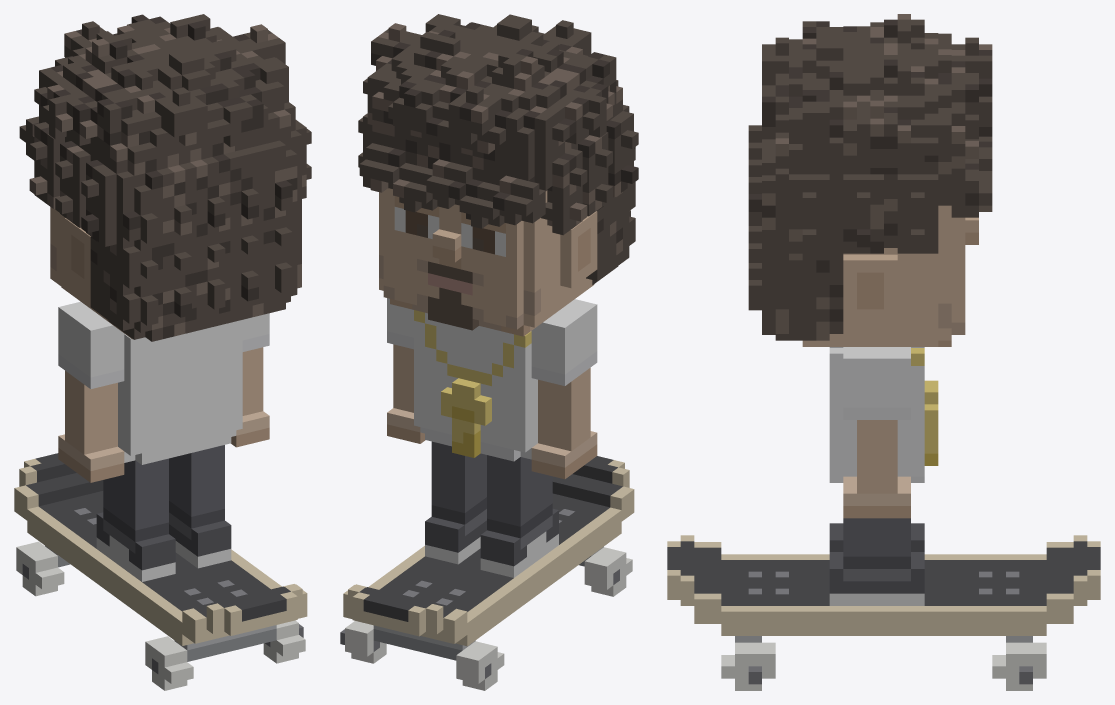
File: GregorinoKickflippino.glb
The picture shows the model from 3 angles, left to right: view 1: azimuth 30°, elevation 25°; view 2: azimuth 150°, elevation 25°; view 3: azimuth 270°, elevation 25°; orthographic projection. The views are drawn at different scales.
Parts seen in each view (by area): view 1: geometry_0; view 2: geometry_0; view 3: geometry_0.
Part boxes in pixels (left/top/right/bottom): geometry_0: left=14, top=14, right=311, bottom=690; geometry_0: left=340, top=14, right=638, bottom=690; geometry_0: left=667, top=14, right=1100, bottom=690.
Size of the model in its own units: 0.4 by 1 by 0.64.
